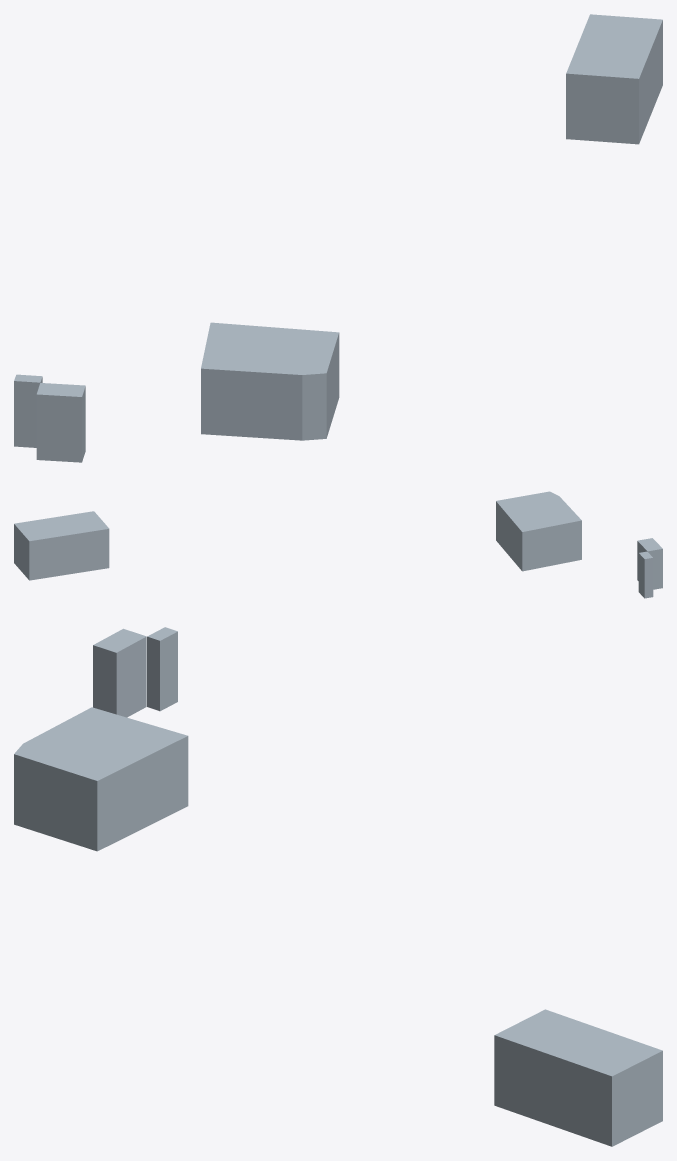
3 renders of one model, top to bottom at view 1: azimuth 30°, elevation 25°; view 2: azimuth 150°, elevation 25°; view 3: azimuth 270°, elevation 25°, orthographic. The views are drawn at different scales.
Size of what is drawn, in the model's own units: 109 by 8 by 66.79.
